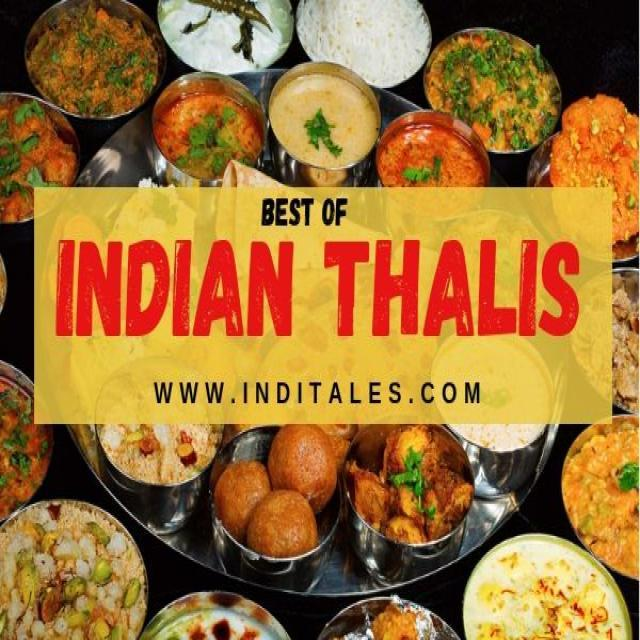curd: (462, 527, 622, 640)
dal: (266, 61, 381, 177)
papad: (556, 94, 640, 243)
rice: (0, 492, 146, 640), (294, 0, 434, 92)
sambar-rasam: (375, 108, 490, 191)
sweet: (566, 414, 639, 561)
veg-fry: (22, 0, 156, 122), (151, 62, 270, 180)
